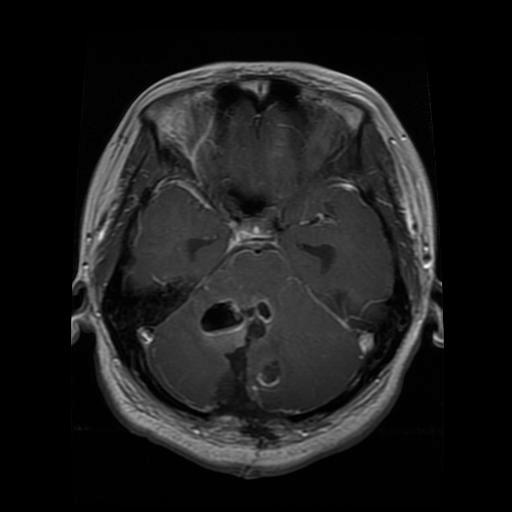Tumour-Glioma: (198, 291, 283, 403)
